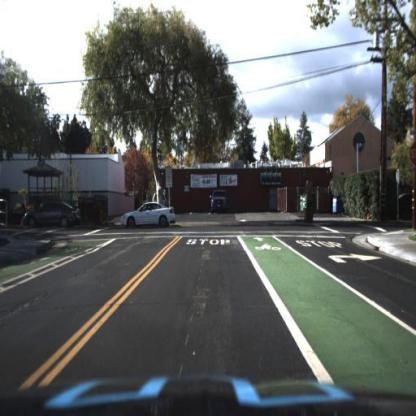car: (118, 195, 178, 236), (23, 197, 85, 235), (209, 188, 234, 218), (150, 192, 171, 210)
